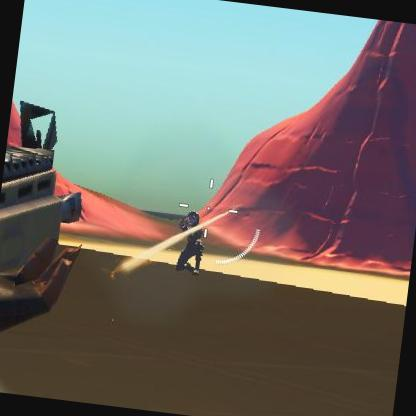person: (174, 229, 206, 274), (180, 210, 200, 230)
